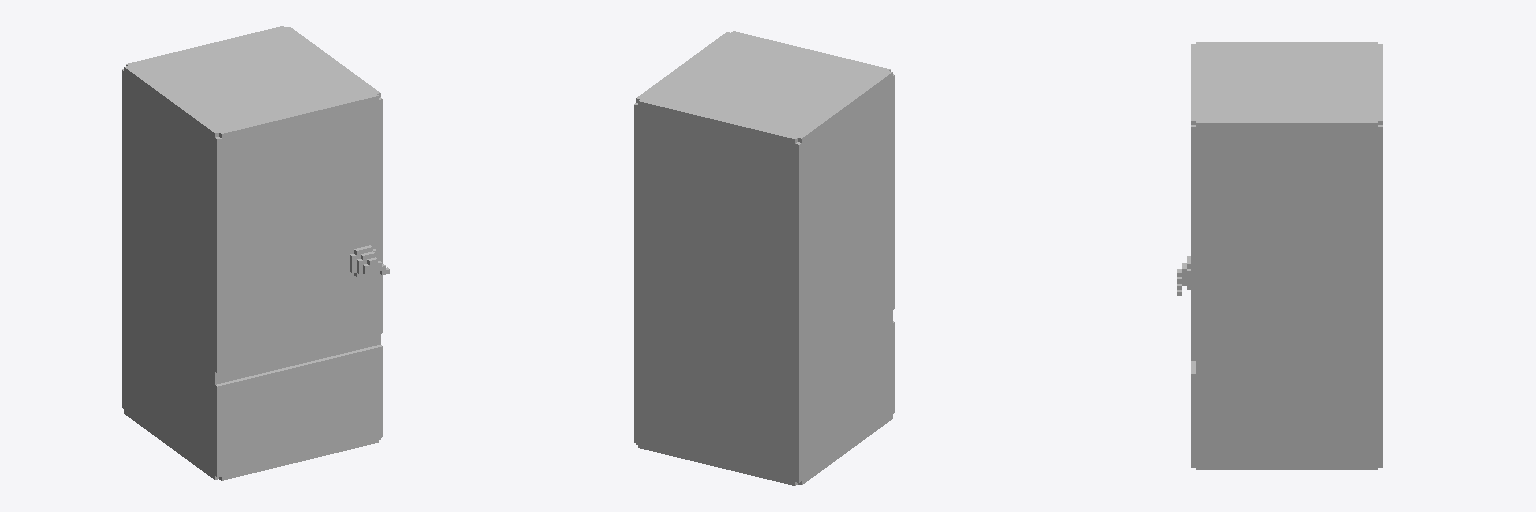
The model's file is fridge.obj.
3 renders of one model, left to right at view 1: azimuth 30°, elevation 25°; view 2: azimuth 150°, elevation 25°; view 3: azimuth 270°, elevation 25°, orthographic.
Visible parts, largest first — view 1: object 1; view 2: object 1; view 3: object 1.
Part boxes in pixels (x1,y1,x2,y2): object 1: (122,26,389,480); object 1: (634,31,894,485); object 1: (1177,42,1382,469).
Size of the model in its own units: 4 by 8 by 4.3.